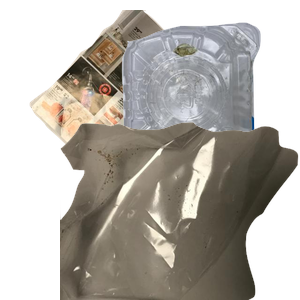glass: (91, 142, 260, 300)
paper: (27, 10, 230, 190)
plastic: (119, 20, 300, 190)
trash: (60, 120, 300, 300)
